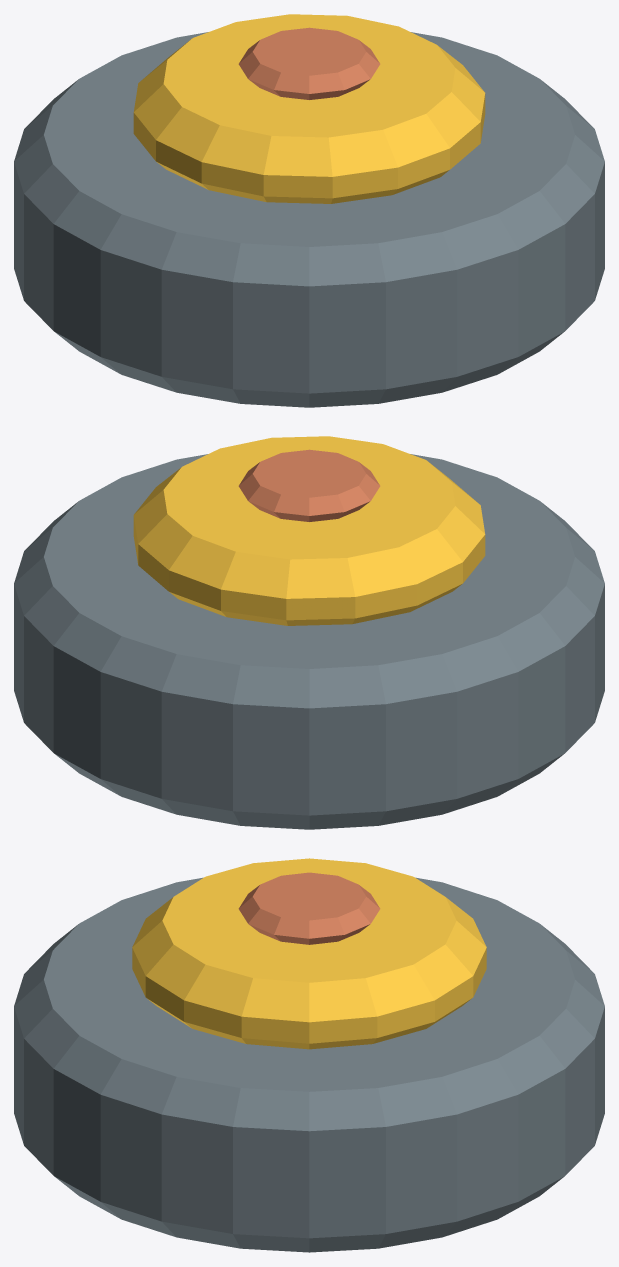
The model's file is mine_disc.glb.
The picture shows the model from 3 angles, top to bottom: view 1: azimuth 30°, elevation 25°; view 2: azimuth 150°, elevation 25°; view 3: azimuth 270°, elevation 25°; orthographic projection.
Parts seen in each view (by area): view 1: Mine base.001, Mine cap.001, Mine center.001; view 2: Mine base.001, Mine cap.001, Mine center.001; view 3: Mine base.001, Mine cap.001, Mine center.001.
Part boxes in pixels (left/top/right/bottom): Mine base.001: left=14, top=32, right=604, bottom=407; Mine cap.001: left=133, top=14, right=485, bottom=203; Mine center.001: left=238, top=27, right=380, bottom=99; Mine base.001: left=14, top=454, right=604, bottom=829; Mine cap.001: left=133, top=436, right=485, bottom=625; Mine center.001: left=238, top=449, right=380, bottom=521; Mine base.001: left=14, top=877, right=604, bottom=1252; Mine cap.001: left=132, top=858, right=486, bottom=1049; Mine center.001: left=238, top=872, right=380, bottom=944.
Size of the model in its own units: 0.5 by 0.2275 by 0.5.
